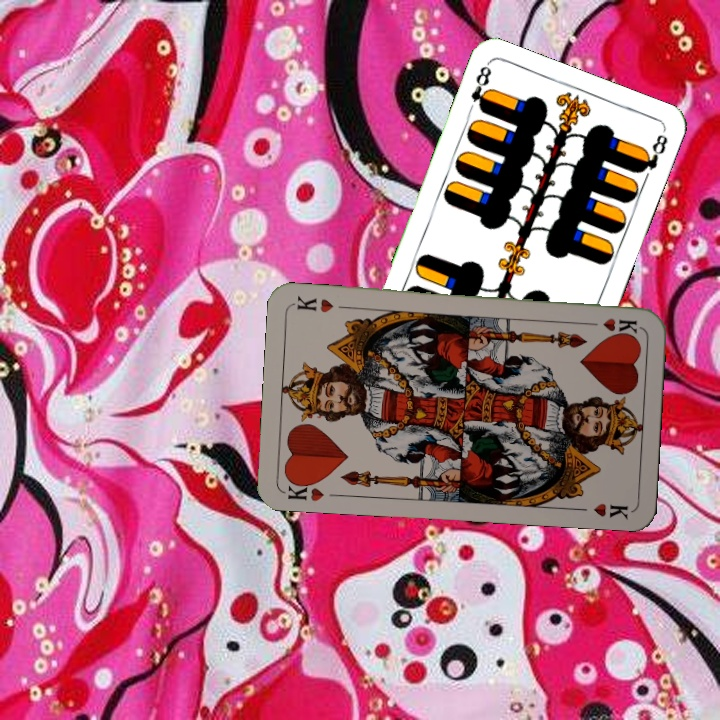E8: (467, 60, 494, 115)
HK: (281, 475, 326, 504), (581, 314, 640, 336)
